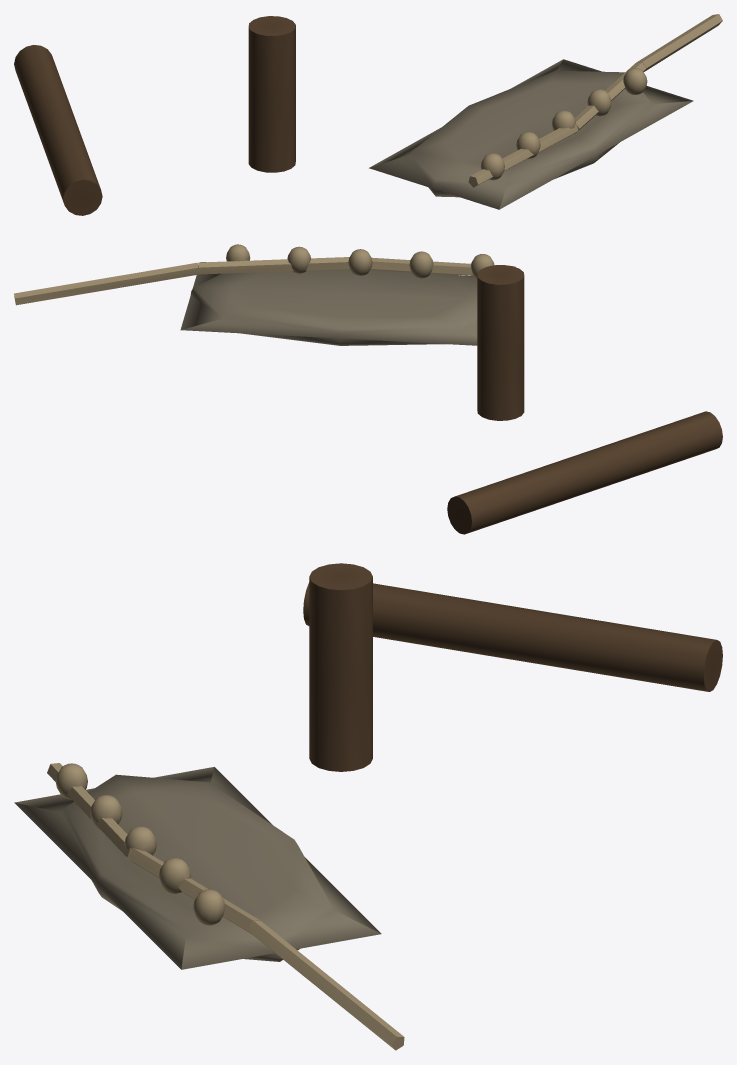
File: knot_board_b.glb
3 views of the same model, one above another, from view 1: azimuth 30°, elevation 25°; view 2: azimuth 150°, elevation 25°; view 3: azimuth 270°, elevation 25° (orthographic). The views are drawn at different scales.
Parts seen in each view (by area): view 1: Surface; view 2: Surface; view 3: Surface.
Part boxes in pixels (x1,y1,x2,y2): Surface: [14, 14, 722, 215]; Surface: [14, 244, 722, 534]; Surface: [14, 563, 722, 1050].
Bounding box in the file's own units: 1.84 × 0.35 × 1.24.
